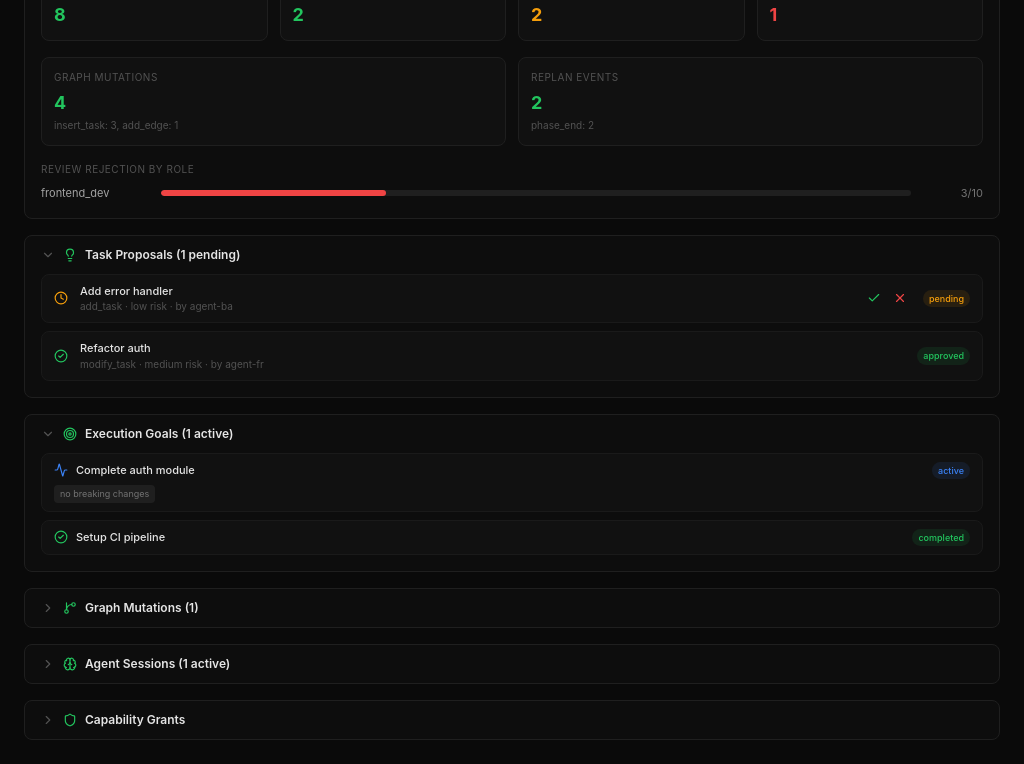
it: AgenticPanel › renders capability grants with toggle buttons
(page scrolled)
Click the button "Capability Grants" at (135, 720), box [25,701,999,739]
(page scrolled)
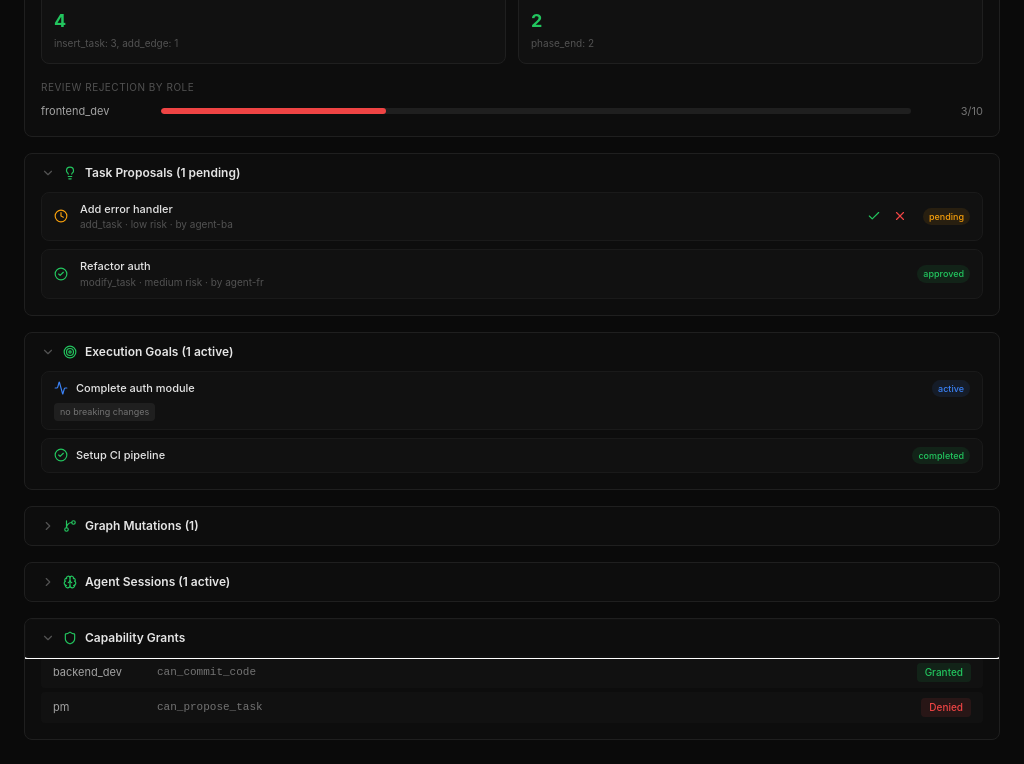
Now the text "backend_dev" is shown, box [53,665,122,679]
Now the text "can_commit_code" is shown, box [157,666,256,678]
Now the button "Granted" is shown, box [917,663,971,682]
